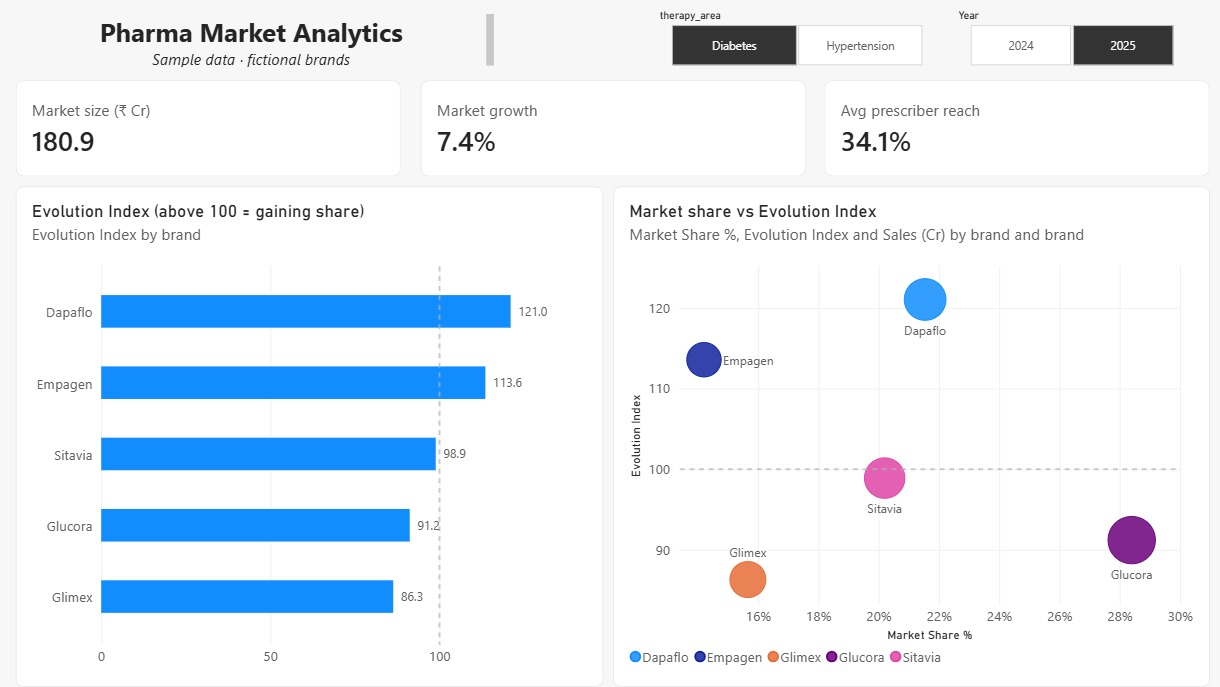

What the dashboard file says about the page in this screenshot:
{"tool":"powerbi","page":{"name":"Brand Performance","canvas":[1280,720],"ordinal":1},"visuals":[{"type":"slicer","fields":{"Values":["Date.Year"]},"box":[991.4,10,250,60],"z":0},{"type":"slicer","fields":{"Values":["dim_brand.therapy_area"]},"box":[680,10,300,60],"z":1000},{"type":"textbox","box":[20,15,496.7,55],"z":2000},{"type":"cardVisual","fields":{"Data":["KPI_Measures.Sales (Cr)"]},"box":[20,85,400,100],"z":3000},{"type":"cardVisual","fields":{"Data":["KPI_Measures.Market Growth %"]},"box":[440,85,400,100],"z":4000},{"type":"cardVisual","fields":{"Data":["KPI_Measures.Avg Brand Reach %"]},"box":[860,85,400,100],"z":5000},{"type":"clusteredBarChart","title":"Evolution Index (above 100 = gaining share)","fields":{"Category":["dim_brand.brand"],"Y":["KPI_Measures.Evolution Index"]},"box":[20,195,610,520],"z":6000},{"type":"scatterChart","title":"Market share vs Evolution Index","fields":{"Category":["dim_brand.brand"],"Series":["dim_brand.brand"],"Size":["KPI_Measures.Sales (Cr)"],"X":["KPI_Measures.Market Share %"],"Y":["KPI_Measures.Evolution Index"]},"box":[640,195,620,520],"z":7000}]}

Visuals, with their boxes in screenshot pixels (x1, y1, x2, y2), scaled from the page's 1280x720 canvas onto the 1220x687 screenshot:
slicer - Date.Year: 945:10:1183:67
slicer - dim_brand.therapy_area: 648:10:934:67
textbox: 19:14:492:67
cardVisual - KPI_Measures.Sales (Cr): 19:81:400:177
cardVisual - KPI_Measures.Market Growth %: 419:81:801:177
cardVisual - KPI_Measures.Avg Brand Reach %: 820:81:1201:177
"Evolution Index (above 100 = gaining share)" clusteredBarChart: 19:186:600:682
"Market share vs Evolution Index" scatterChart: 610:186:1201:682
